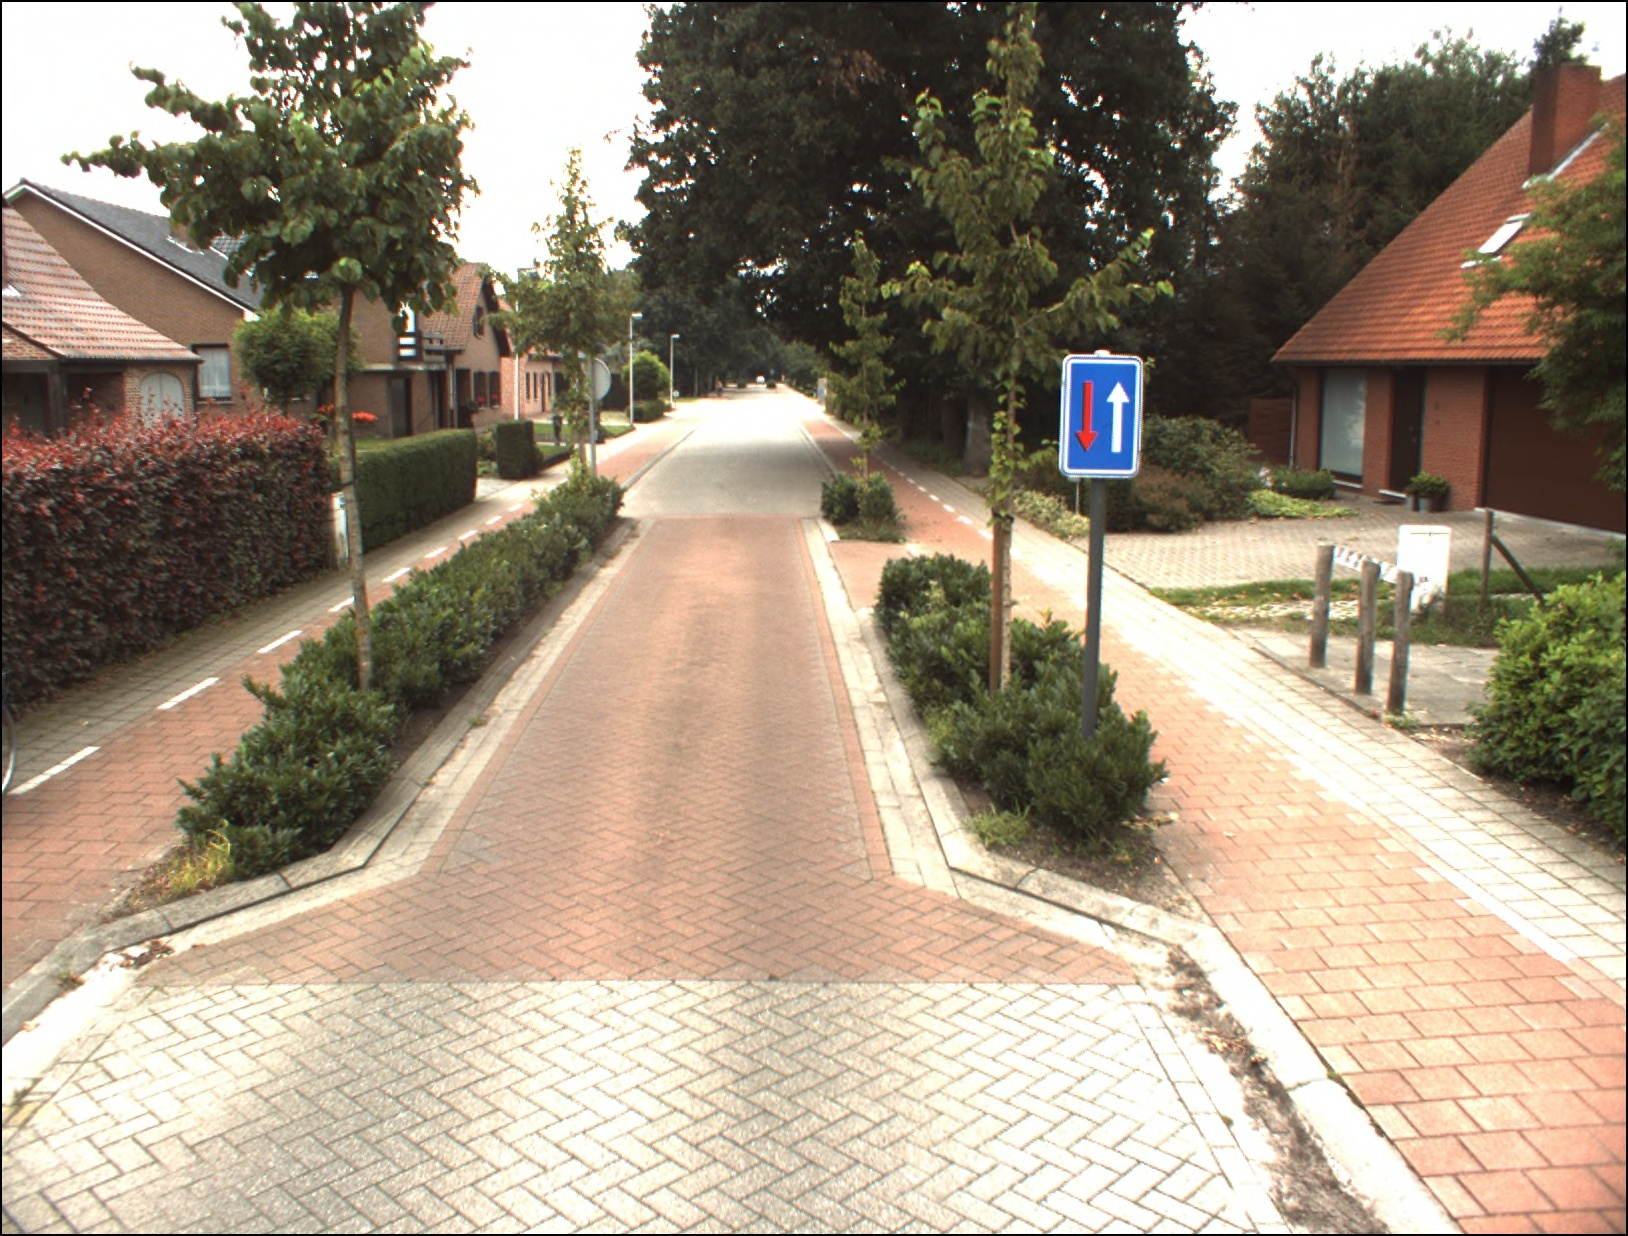roadnarrow1: (1059, 354, 1136, 476)
